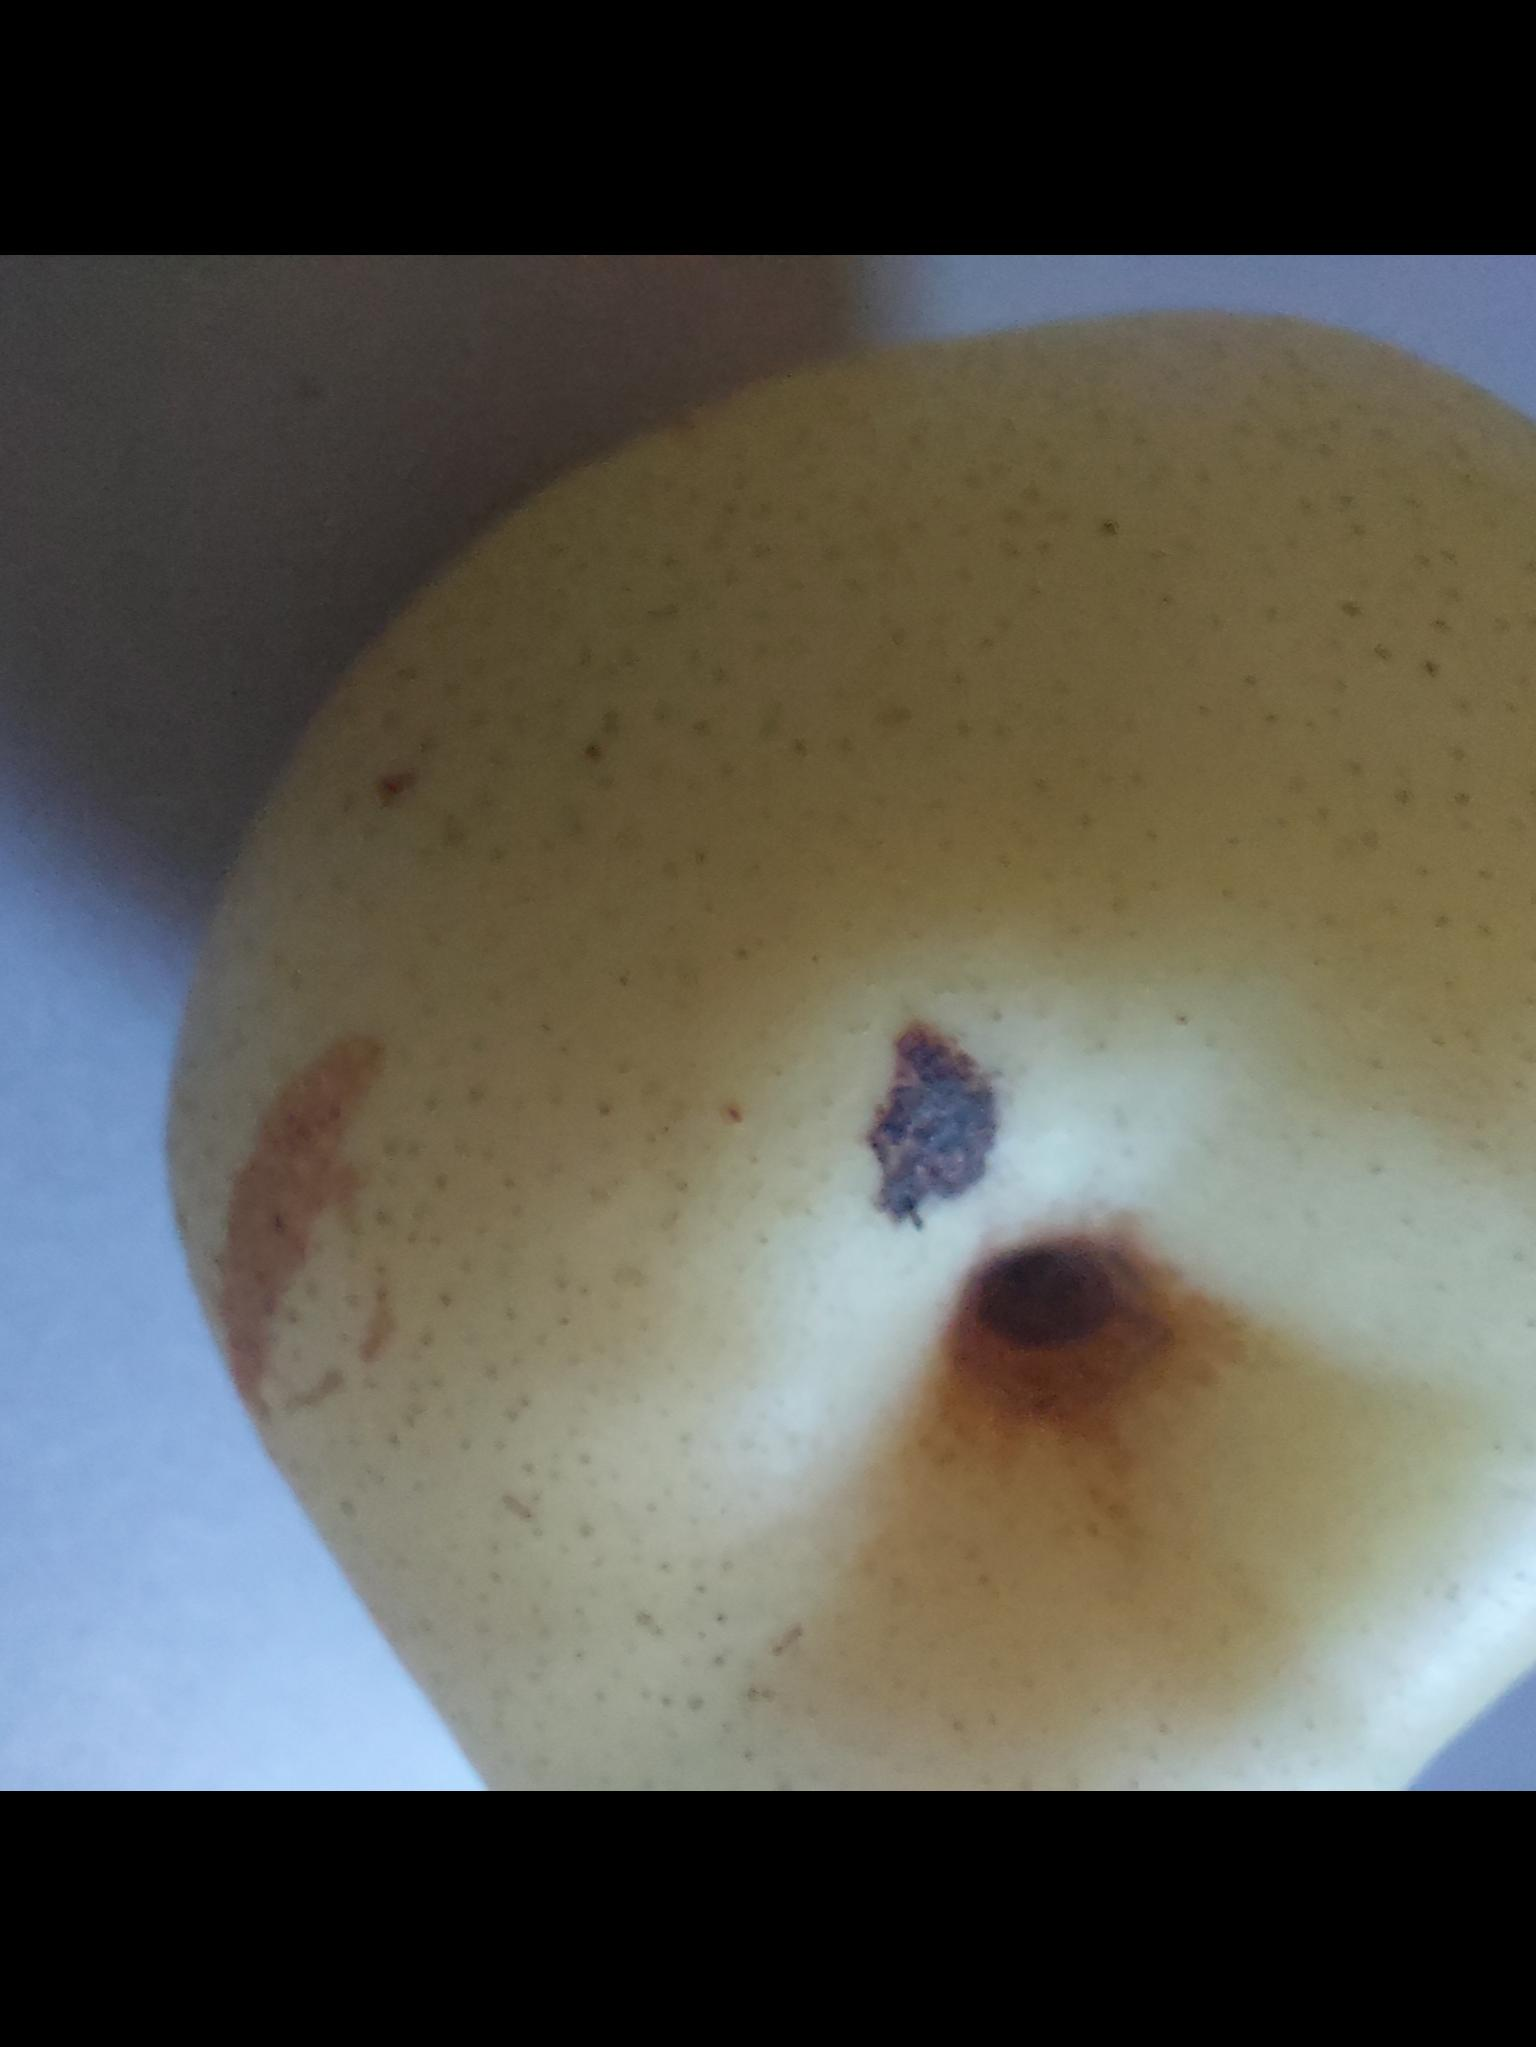Good Pear: (145, 295, 1536, 1792)
